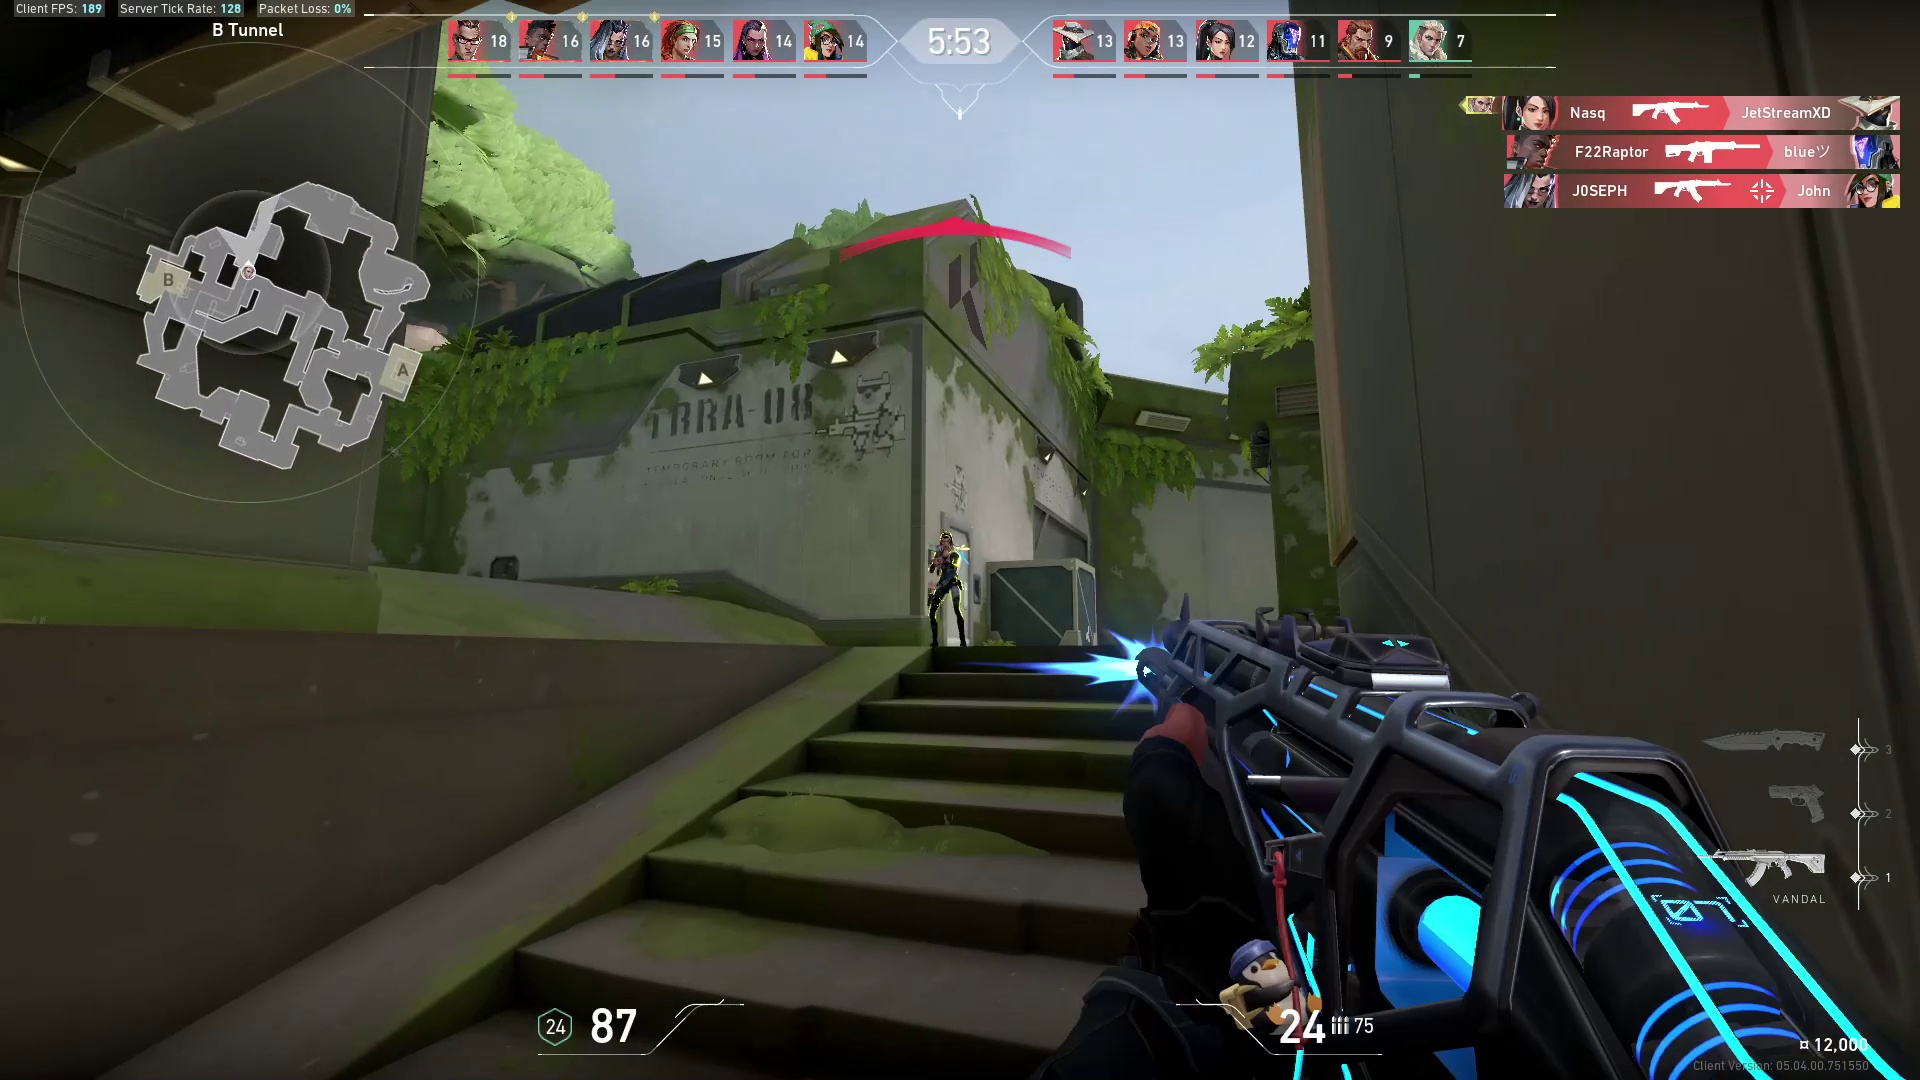1: (923, 550, 975, 649)
["enemy_head", "enemy_body", "enemy_gen", "dog"]: (934, 525, 960, 551)
